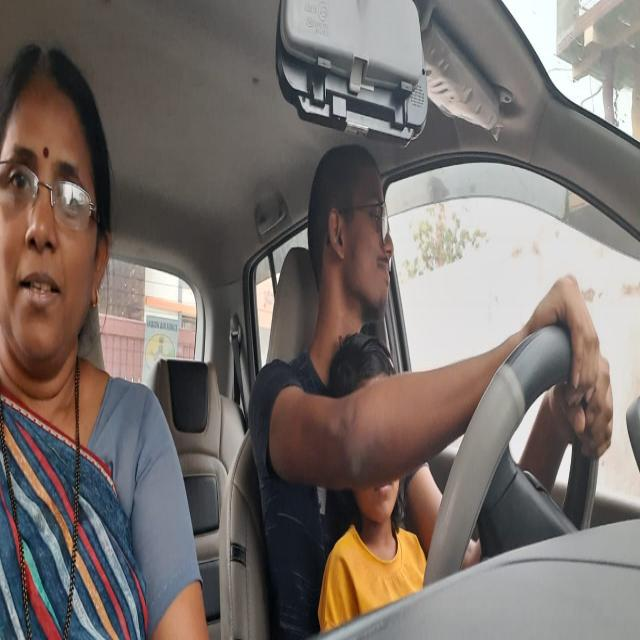child: (330, 335, 405, 524)
person: (1, 55, 110, 374), (312, 141, 401, 320)
